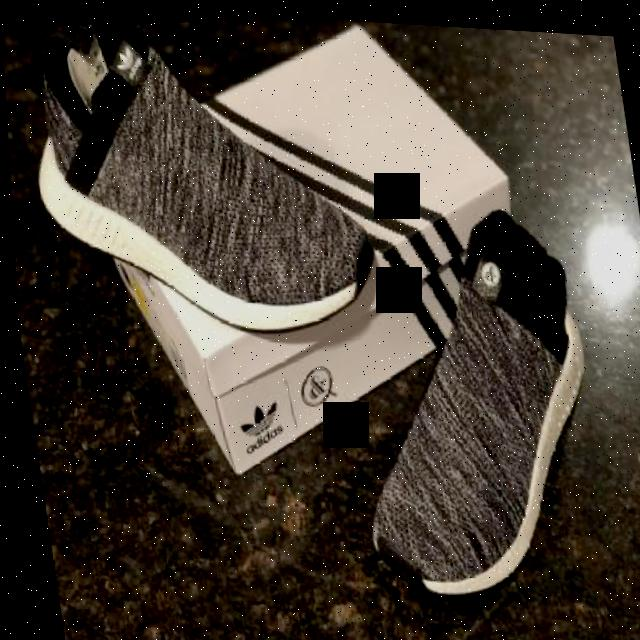shoes: (31, 1, 404, 352), (330, 248, 613, 606)
